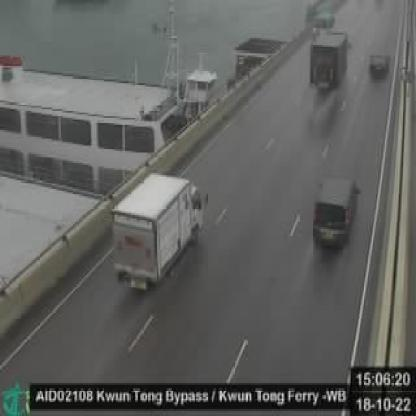Car: (311, 178, 362, 253), (368, 49, 392, 82)
Truck: (110, 169, 208, 297), (308, 31, 351, 91)
